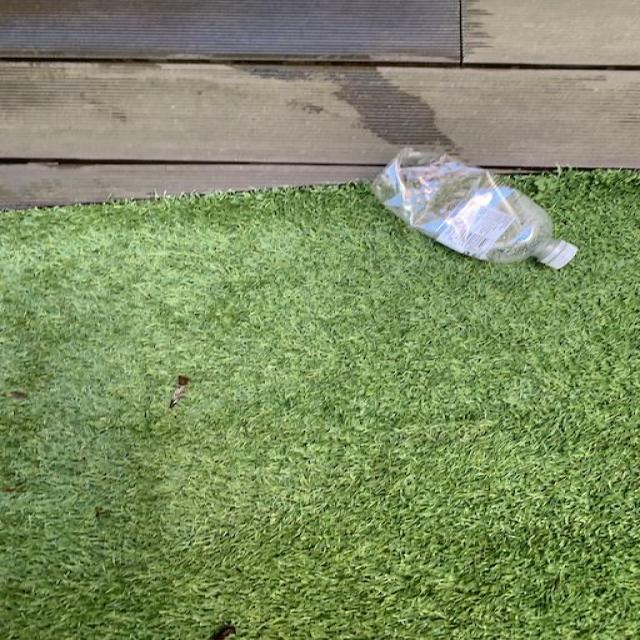chai: (375, 149, 579, 269)
